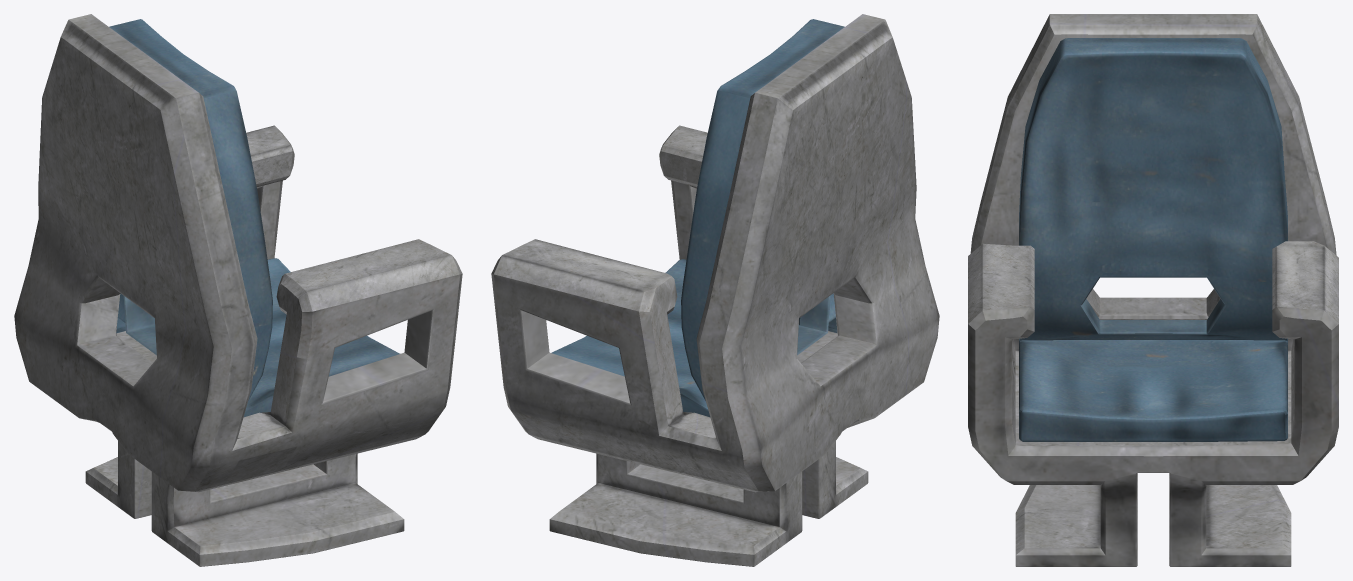
Rendered from blueChair.fbx.
The picture shows the model from 3 angles, left to right: view 1: azimuth 30°, elevation 25°; view 2: azimuth 150°, elevation 25°; view 3: azimuth 270°, elevation 25°; orthographic projection. The views are drawn at different scales.
Visible parts, largest first — view 1: chair; view 2: chair; view 3: chair.
Boxes of the visible parts, x1,y1,x2,y2 form: chair: [14, 14, 462, 566]; chair: [491, 14, 939, 566]; chair: [968, 14, 1338, 566].
Size of the model in its own units: 66.88 by 113 by 83.6.
2 materials, 2 textured.
